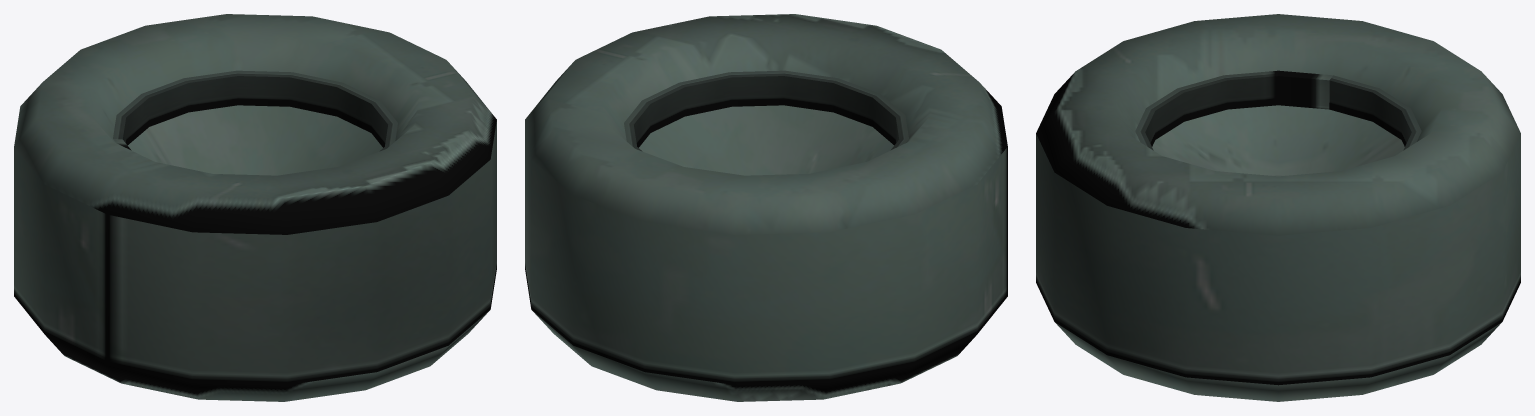
Rendered from SpareTire_1.fbx.
The picture shows the model from 3 angles, left to right: view 1: azimuth 30°, elevation 25°; view 2: azimuth 150°, elevation 25°; view 3: azimuth 270°, elevation 25°; orthographic projection.
Visible parts, largest first — view 1: SpareTire_1; view 2: SpareTire_1; view 3: SpareTire_1.
Part boxes in pixels (x1,y1,x2,y2): SpareTire_1: (14,14,496,401); SpareTire_1: (525,14,1007,401); SpareTire_1: (1036,14,1520,401).
Bounding box in the file's own units: 46.3 × 21.32 × 46.3.
